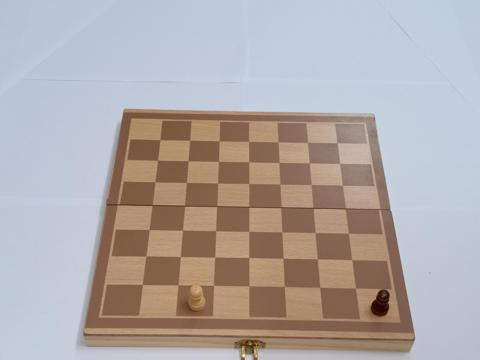xcorner: (153, 156, 163, 166), (277, 228, 287, 238), (334, 160, 344, 170), (144, 226, 154, 235), (137, 280, 147, 289), (185, 137, 195, 146), (178, 226, 187, 236), (213, 179, 222, 189), (210, 253, 219, 263), (209, 281, 218, 291), (244, 158, 253, 168), (274, 159, 284, 168), (278, 255, 288, 264), (303, 139, 312, 149), (304, 160, 314, 169), (306, 181, 315, 191), (315, 283, 324, 293), (156, 136, 165, 145), (151, 178, 160, 187), (148, 201, 157, 210), (141, 252, 150, 261), (184, 157, 193, 166), (182, 179, 191, 188), (180, 202, 189, 211), (176, 253, 185, 262), (173, 281, 182, 290), (215, 137, 224, 146), (214, 158, 223, 167), (212, 203, 221, 212), (211, 227, 220, 236), (244, 138, 253, 147), (244, 180, 253, 189), (244, 203, 253, 212), (244, 228, 253, 237), (244, 254, 253, 263), (244, 282, 253, 291), (274, 139, 283, 148), (275, 181, 284, 190), (276, 204, 285, 213), (280, 283, 289, 292), (308, 205, 317, 214), (310, 229, 319, 238), (313, 255, 322, 264), (332, 140, 341, 149), (337, 182, 346, 191), (340, 205, 349, 214), (343, 230, 352, 239), (347, 256, 356, 265), (350, 284, 359, 293)
